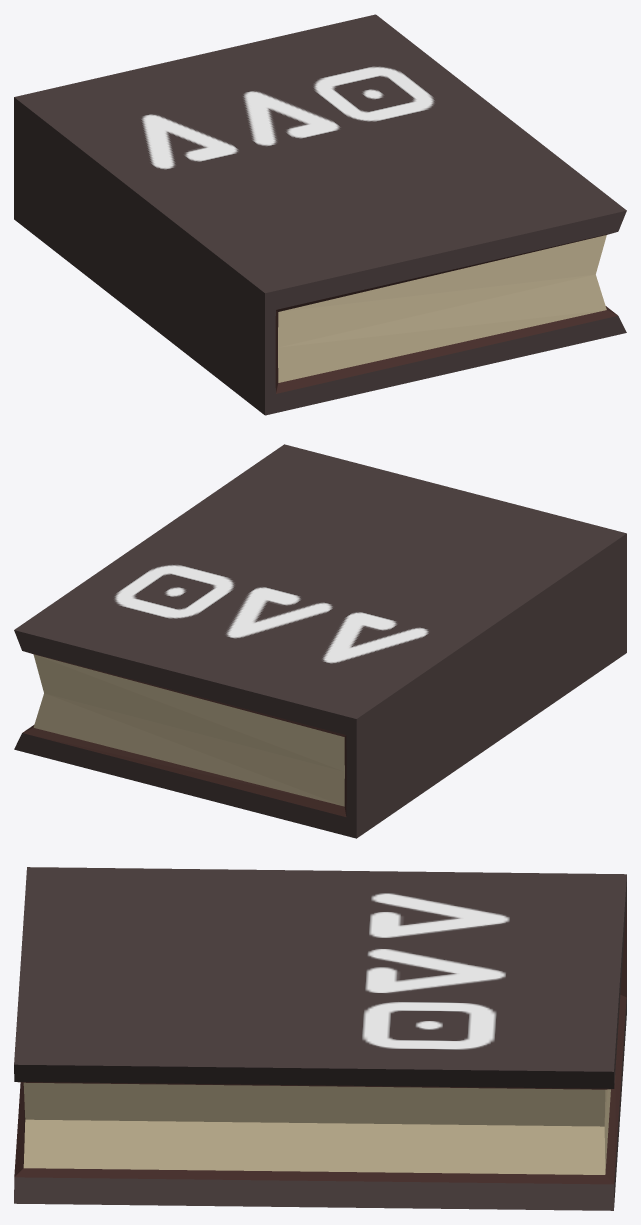
The model's file is 3D_book_2.fbx.
3 renders of one model, top to bottom at view 1: azimuth 30°, elevation 25°; view 2: azimuth 150°, elevation 25°; view 3: azimuth 270°, elevation 25°, orthographic. The views are drawn at different scales.
Parts seen in each view (by area): view 1: 3d_book.001; view 2: 3d_book.001; view 3: 3d_book.001.
Part boxes in pixels (x1,y1,x2,y2): 3d_book.001: (14, 14, 626, 415); 3d_book.001: (14, 444, 626, 838); 3d_book.001: (14, 867, 626, 1210).
Size of the model in its own units: 0.3727 by 0.118 by 0.4717.
